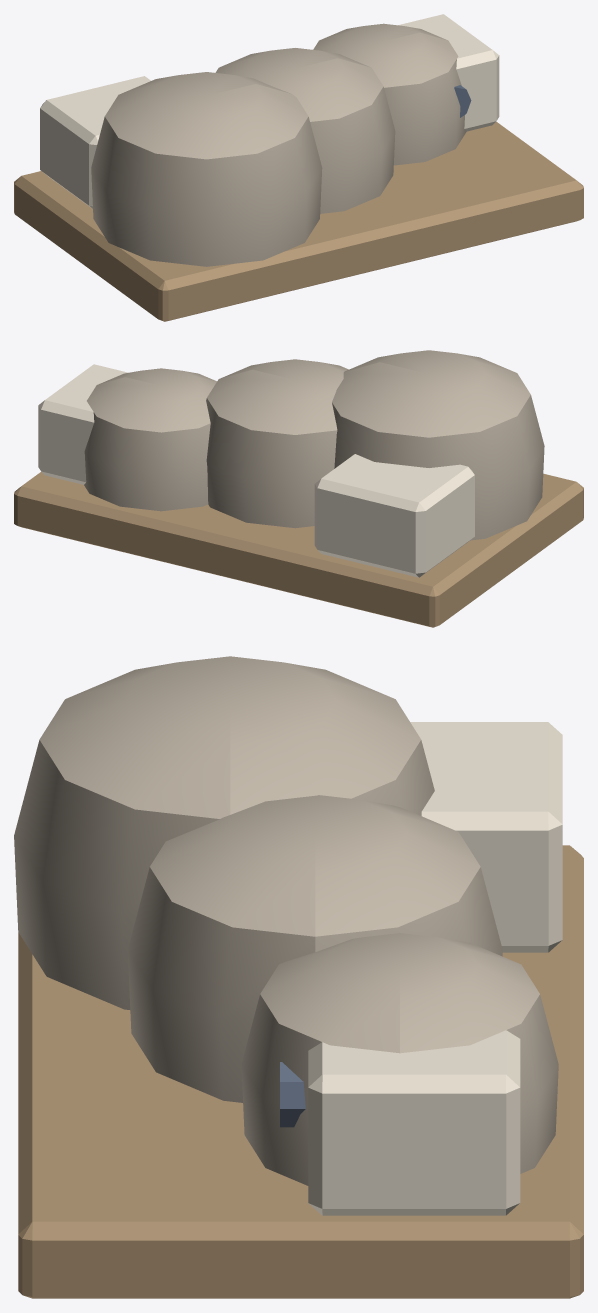
The model's file is roman-bathhouse-and-palaestra-stone-weight-set-7083f497__37906.glb.
3 renders of one model, top to bottom at view 1: azimuth 30°, elevation 25°; view 2: azimuth 150°, elevation 25°; view 3: azimuth 270°, elevation 25°, orthographic. The views are drawn at different scales.
Visible parts, largest first — view 1: stone-weight-set; view 2: stone-weight-set; view 3: stone-weight-set.
Boxes of the visible parts, x1,y1,x2,y2 form: stone-weight-set: (14,14,583,321); stone-weight-set: (14,350,583,627); stone-weight-set: (14,656,583,1298).
Bounding box in the file's own units: 1.3 × 0.48 × 0.806.
